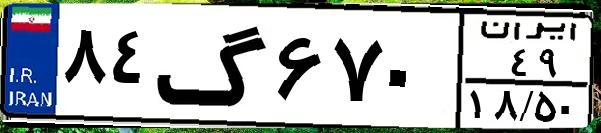0: (385, 28, 445, 110), (560, 70, 590, 125)
1: (470, 70, 495, 125)
4: (110, 28, 156, 98), (508, 27, 537, 80)
5: (535, 70, 560, 125)
6: (270, 28, 330, 110)
7: (330, 28, 385, 110)
8: (57, 26, 110, 100), (495, 70, 520, 125)
9: (537, 27, 568, 80)
گ: (156, 12, 270, 120)
